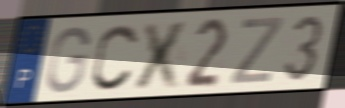2: (183, 15, 232, 91)
3: (279, 13, 327, 84)
C: (90, 21, 142, 93)
G: (44, 24, 92, 96)
X: (130, 18, 194, 92)
Z: (227, 14, 286, 86)
